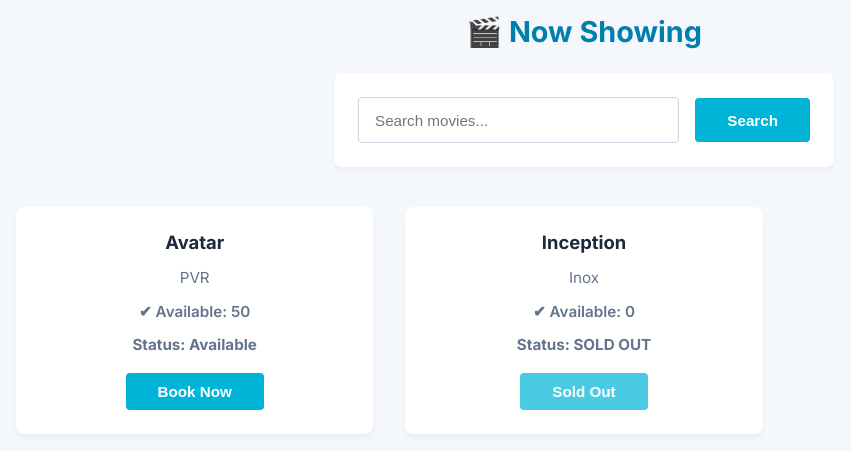
Test case: Movies Component › displays no movies found message when search matches none
expect the heading "Avatar" is shown: met, box [165,231,224,253]
Type "Zebra" into the field. click: (519, 120)
box: [358,97,679,143]
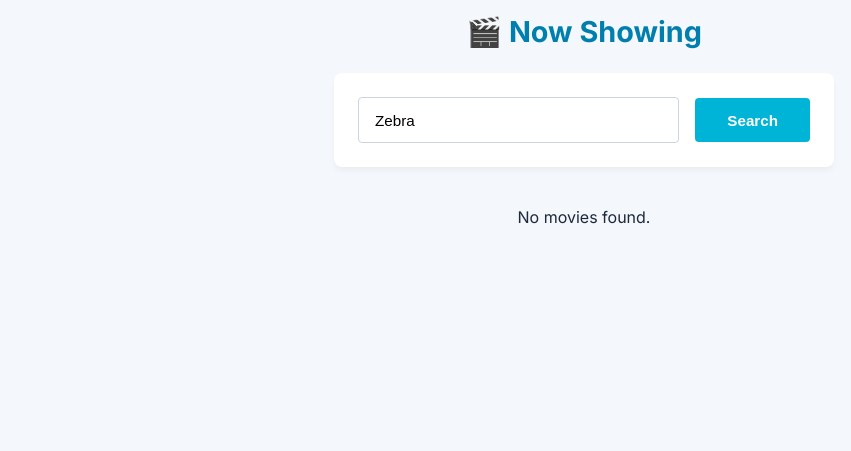
expect the heading "Avatar" is gone: met
expect the text "No movies found." is shown: met, box [518,207,650,227]
